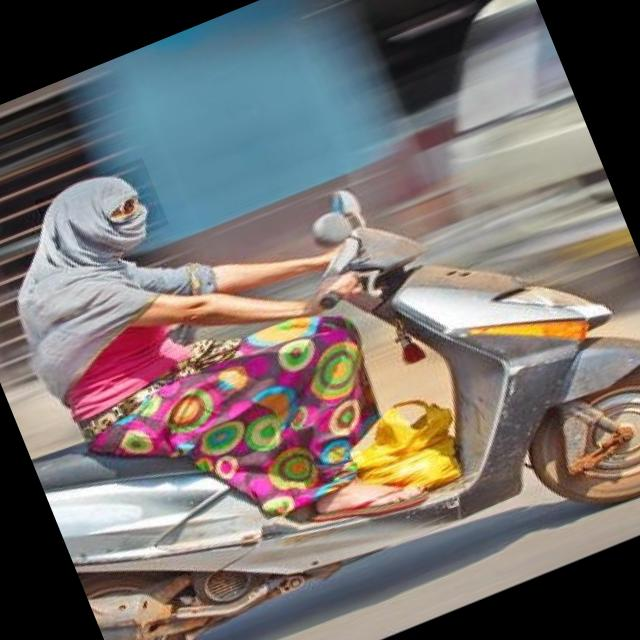without helmet: (34, 157, 168, 267)
